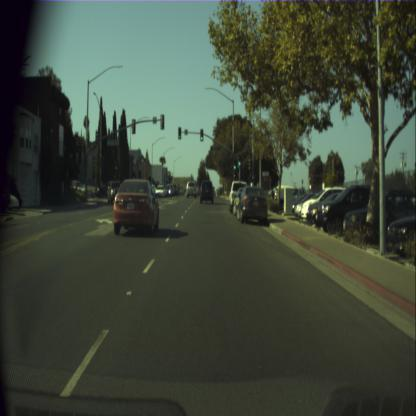Green: (200, 128, 204, 140), (178, 127, 182, 139), (233, 160, 236, 172), (238, 160, 241, 170)
Yellow: (233, 172, 236, 179)
